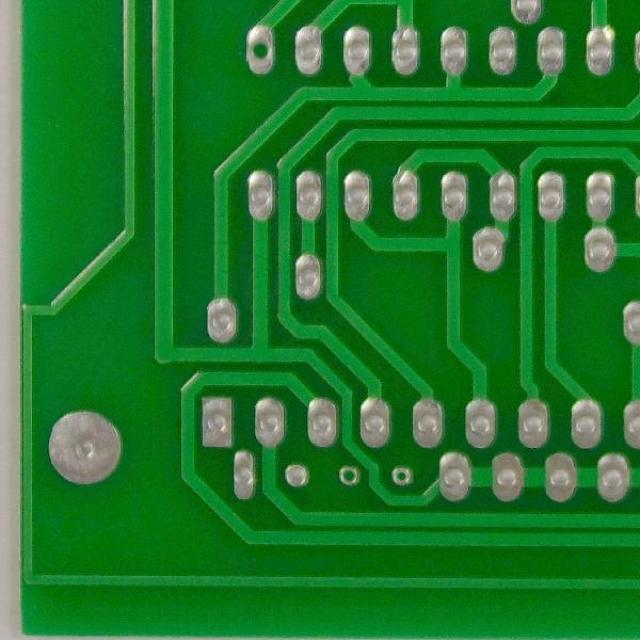Missing_Hole: (241, 21, 280, 77), (336, 464, 362, 487), (389, 464, 413, 487)
